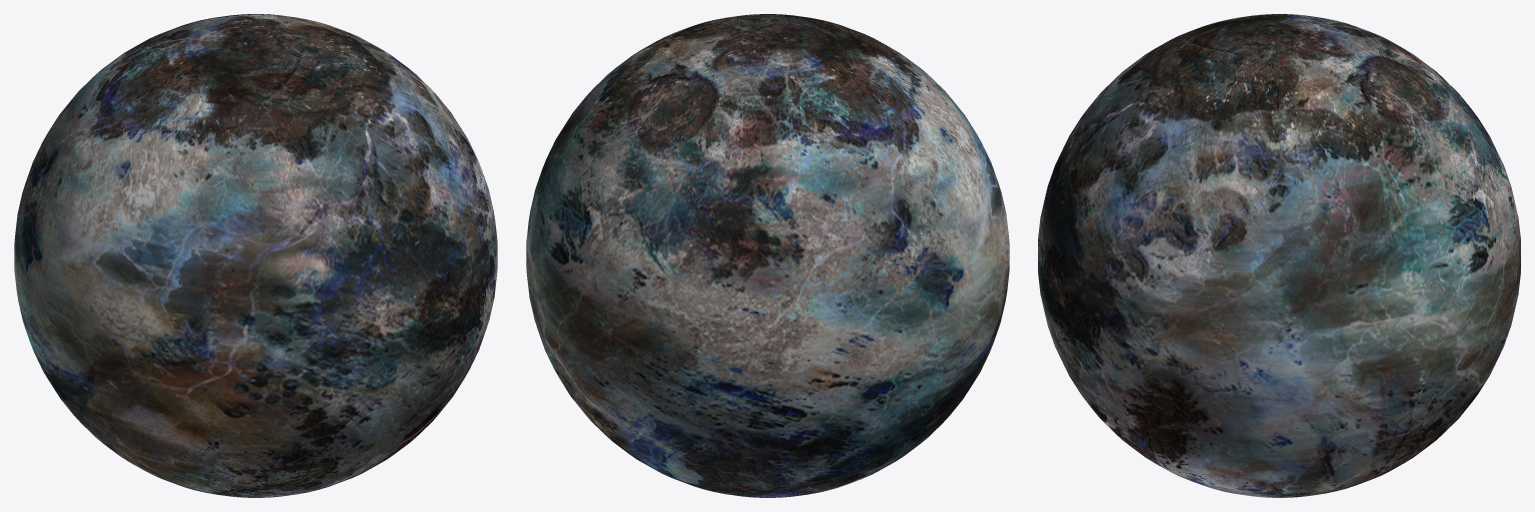
File: Alderaan.obj
The picture shows the model from 3 angles, left to right: view 1: azimuth 30°, elevation 25°; view 2: azimuth 150°, elevation 25°; view 3: azimuth 270°, elevation 25°; orthographic projection.
Bounding box in the file's own units: 63.6 × 63.68 × 63.52.
1 material, 1 textured.
